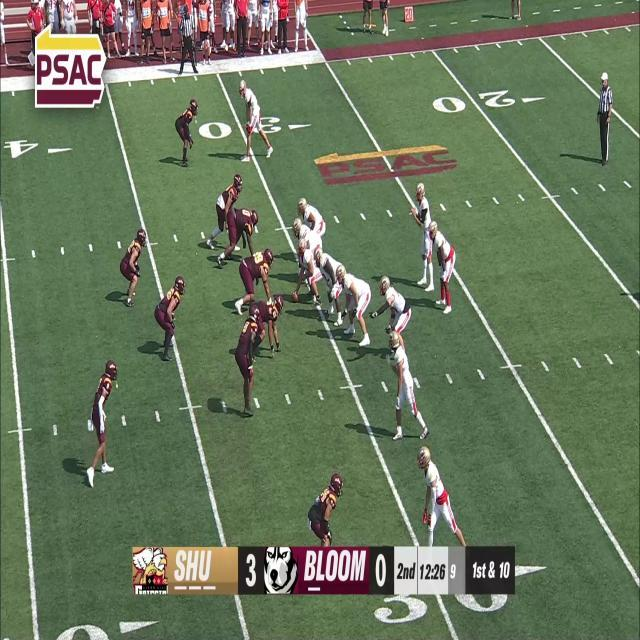football: (290, 292, 300, 304)
